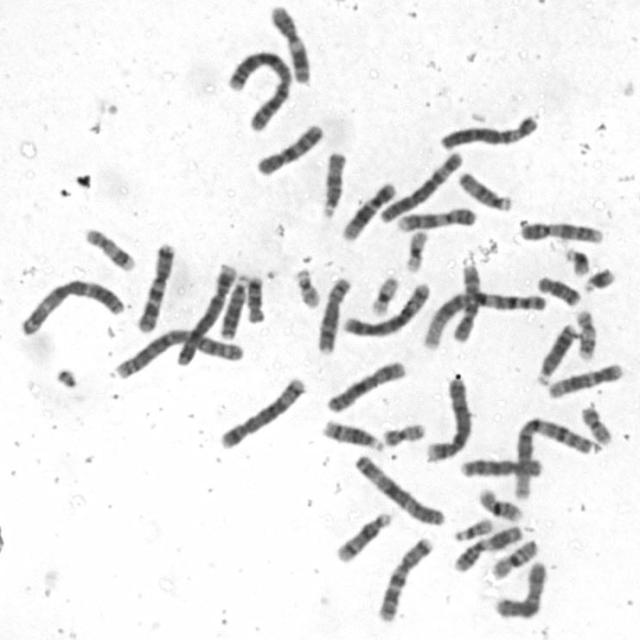A1: (417, 287, 548, 350), (510, 411, 598, 502)
A2: (109, 322, 246, 381), (222, 46, 294, 133)
A3: (350, 450, 448, 527), (15, 273, 127, 337)
B4: (172, 258, 241, 368), (421, 371, 474, 463)
B5: (215, 371, 309, 451), (338, 277, 433, 339)
C10: (251, 118, 327, 178), (451, 257, 484, 344)
C11: (450, 520, 525, 574), (266, 0, 313, 84)
C12: (337, 177, 398, 242), (544, 357, 626, 400)
C6: (376, 145, 466, 224), (436, 108, 542, 152)
C7: (373, 532, 436, 624), (134, 238, 179, 334)
C8: (312, 272, 355, 356), (456, 452, 546, 480)
C9: (514, 216, 606, 246), (393, 202, 479, 233)
D13: (532, 318, 579, 386), (215, 270, 251, 340)
D14: (332, 507, 394, 564), (318, 414, 385, 453)
D15: (455, 166, 515, 213), (316, 146, 348, 221)
E16: (487, 533, 541, 581), (475, 483, 526, 522)
E17: (80, 222, 138, 272), (572, 304, 598, 362)
E18: (532, 270, 583, 308), (243, 270, 267, 325)
F19: (366, 270, 402, 317), (401, 225, 431, 274)
F20: (577, 400, 615, 446), (378, 418, 428, 448)
G21: (580, 262, 618, 294), (560, 242, 592, 278)
G22: (289, 262, 322, 309), (450, 513, 496, 543)
X: (322, 356, 408, 414), (490, 555, 549, 620)
